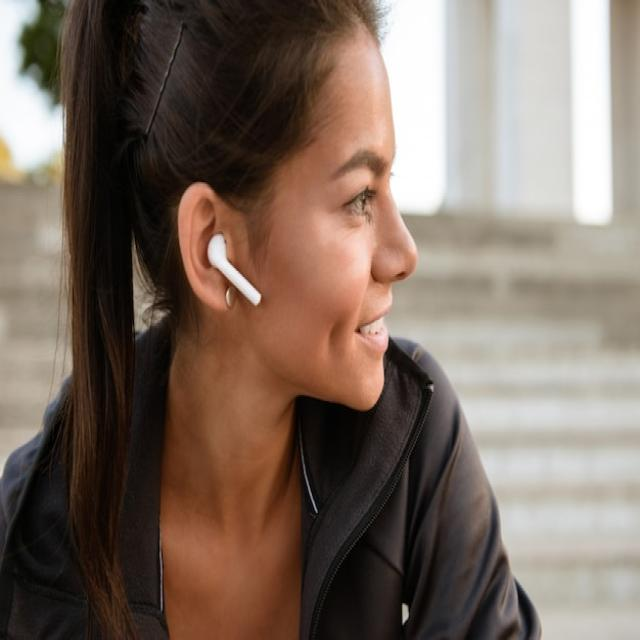airpods: (206, 230, 264, 311)
